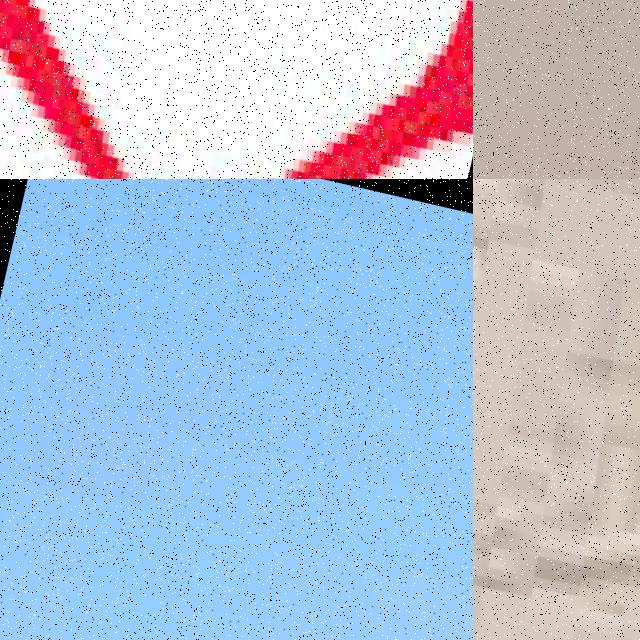drone: (0, 0, 473, 179), (473, 179, 640, 640)
